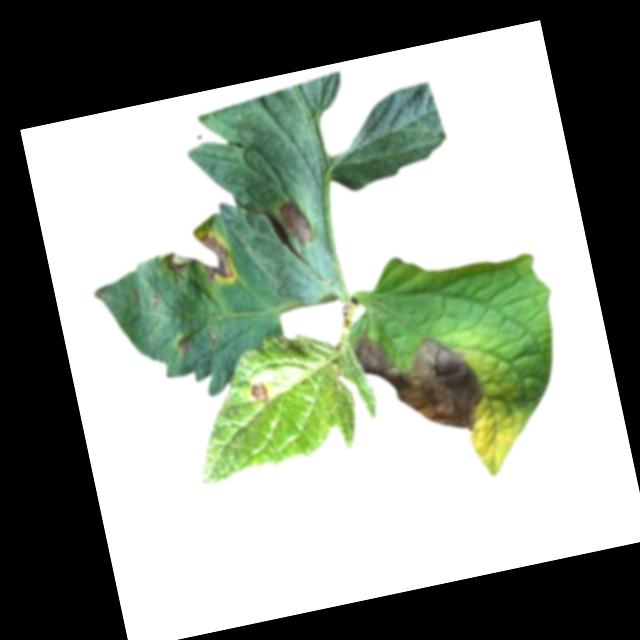Early_blight: (348, 306, 491, 450), (158, 228, 237, 295), (278, 195, 317, 249), (248, 377, 270, 404), (176, 334, 195, 354)
